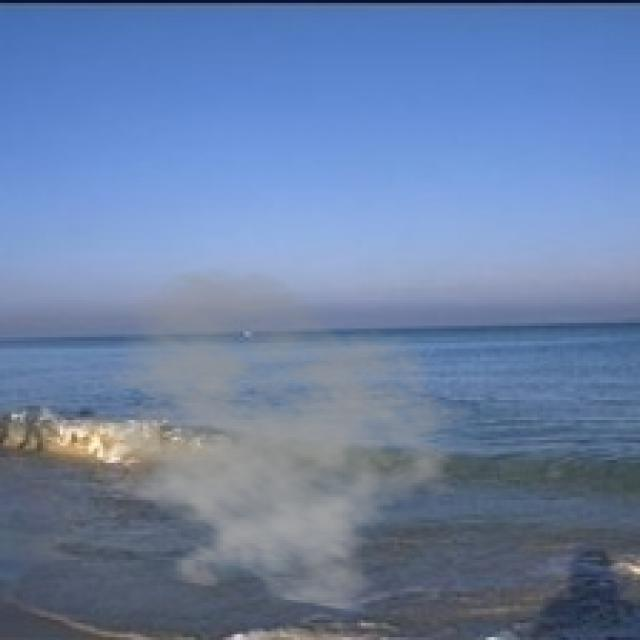smoke: (63, 266, 474, 614)
